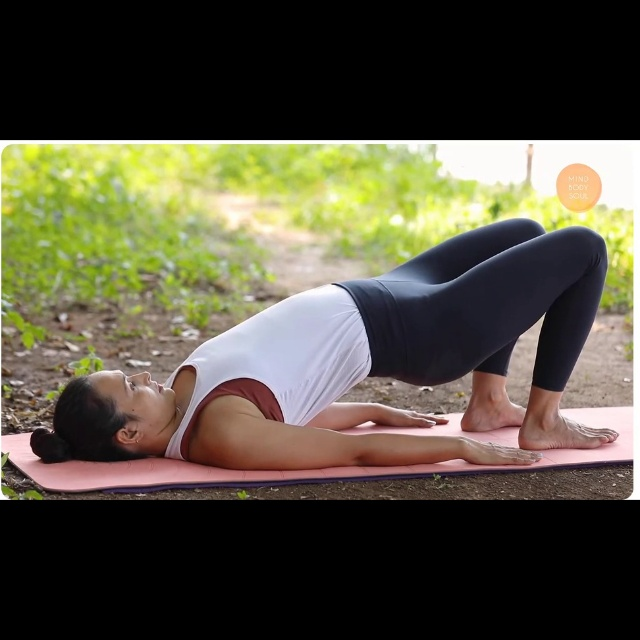Bridge_Pose: (21, 215, 623, 481)
